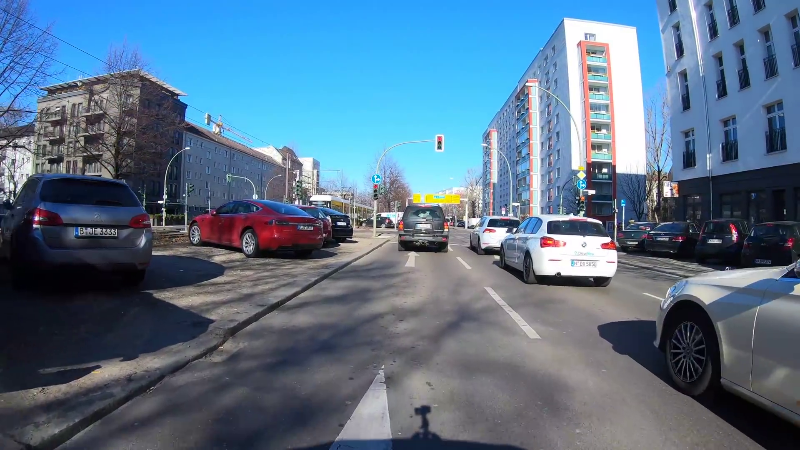Plate: (73, 224, 120, 238), (569, 258, 600, 267), (295, 223, 315, 231), (752, 257, 773, 264), (415, 222, 433, 229), (654, 235, 670, 242), (705, 238, 721, 244), (626, 239, 638, 246), (335, 220, 348, 226)
